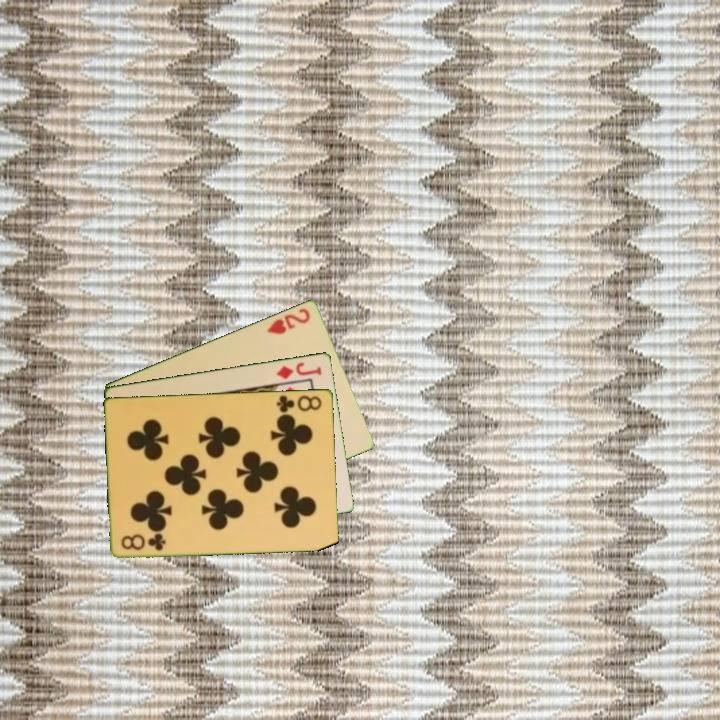2h: (263, 304, 313, 337)
8c: (273, 391, 325, 415), (118, 530, 169, 553)
Jd: (273, 358, 324, 382)
